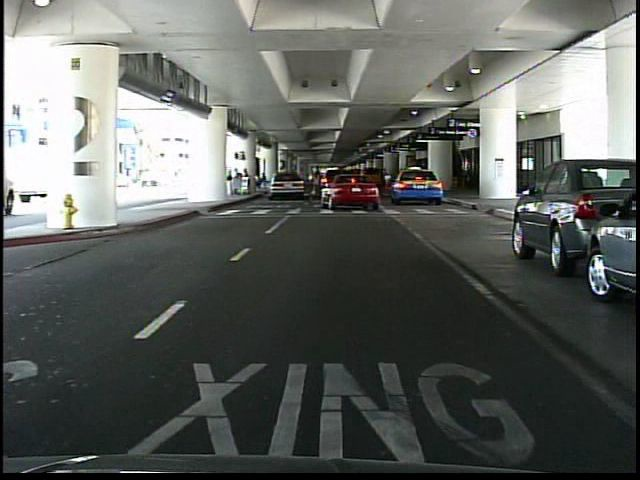person: (312, 165, 323, 198)
